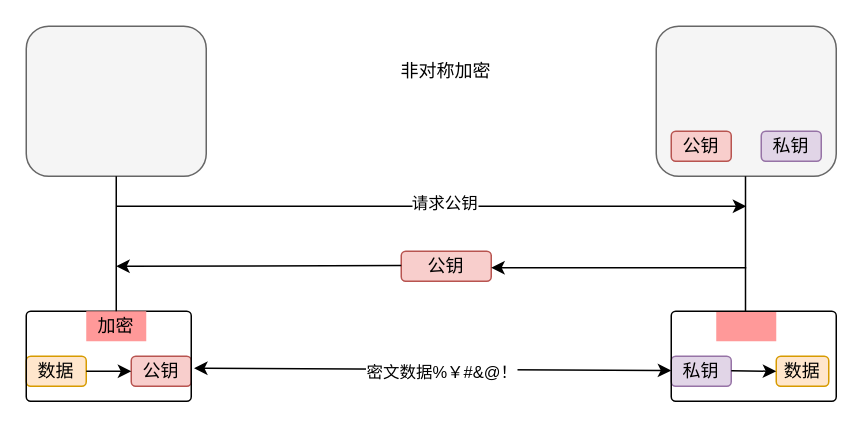
Image size: 863x428. Some labels were removed from this diagram. Each missing label, with the box of its shape:
客户端: (25, 25, 206, 176)
服务端: (655, 25, 836, 176)
解密: (716, 310, 776, 340)
